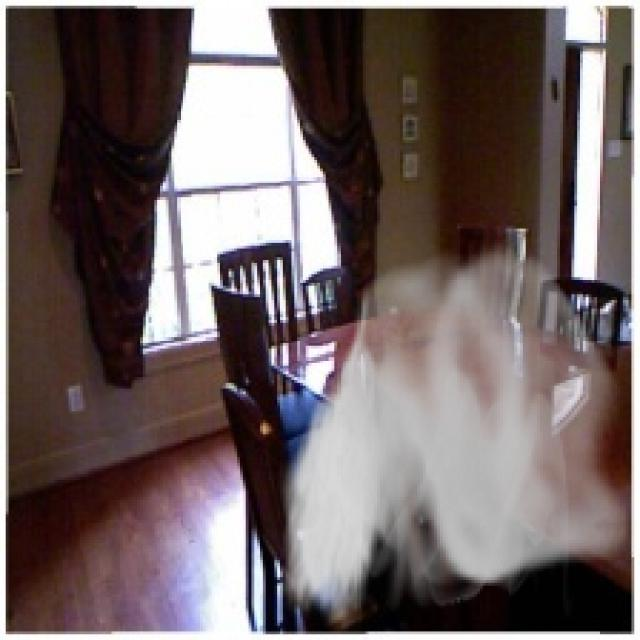smoke: (277, 234, 629, 632)
